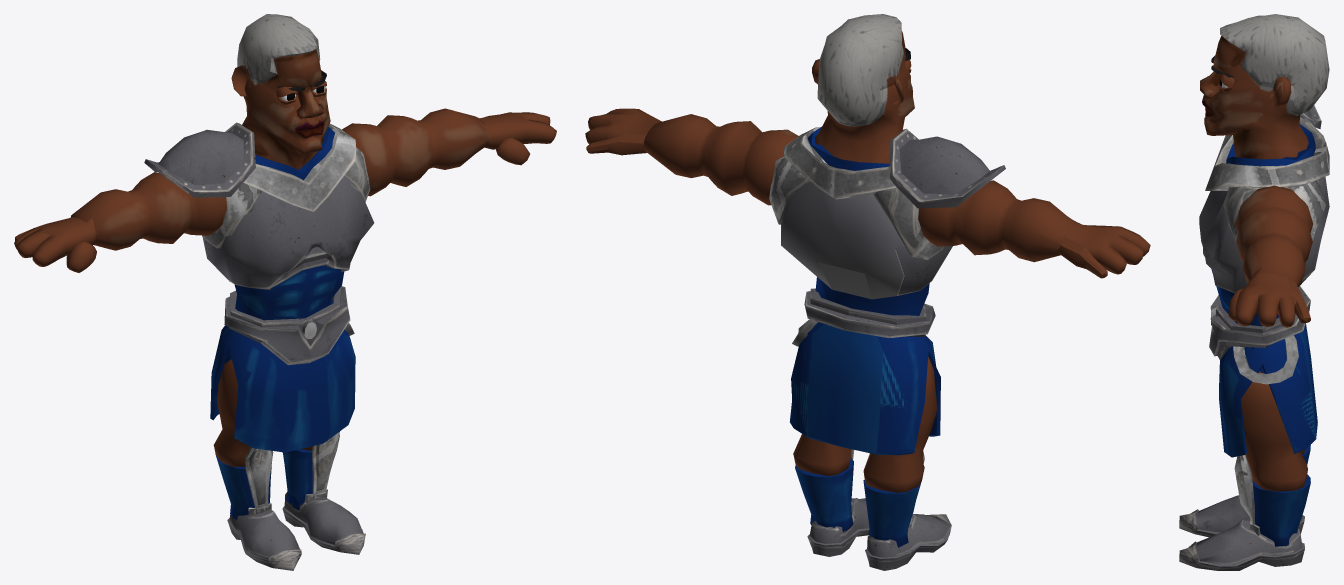
The model's file is remetch-magician.glb.
3 renders of one model, left to right at view 1: azimuth 30°, elevation 25°; view 2: azimuth 150°, elevation 25°; view 3: azimuth 270°, elevation 25°, orthographic. The views are drawn at different scales.
Visible parts, largest first — view 1: 1; view 2: 1; view 3: 1.
Boxes of the visible parts, box(x1,y1,x2,y2) form: 1: box(14, 14, 556, 570); 1: box(585, 14, 1150, 570); 1: box(1179, 14, 1329, 570).
Bounding box in the file's own units: 221 × 202 × 52.42.
6 materials, 6 textured.
